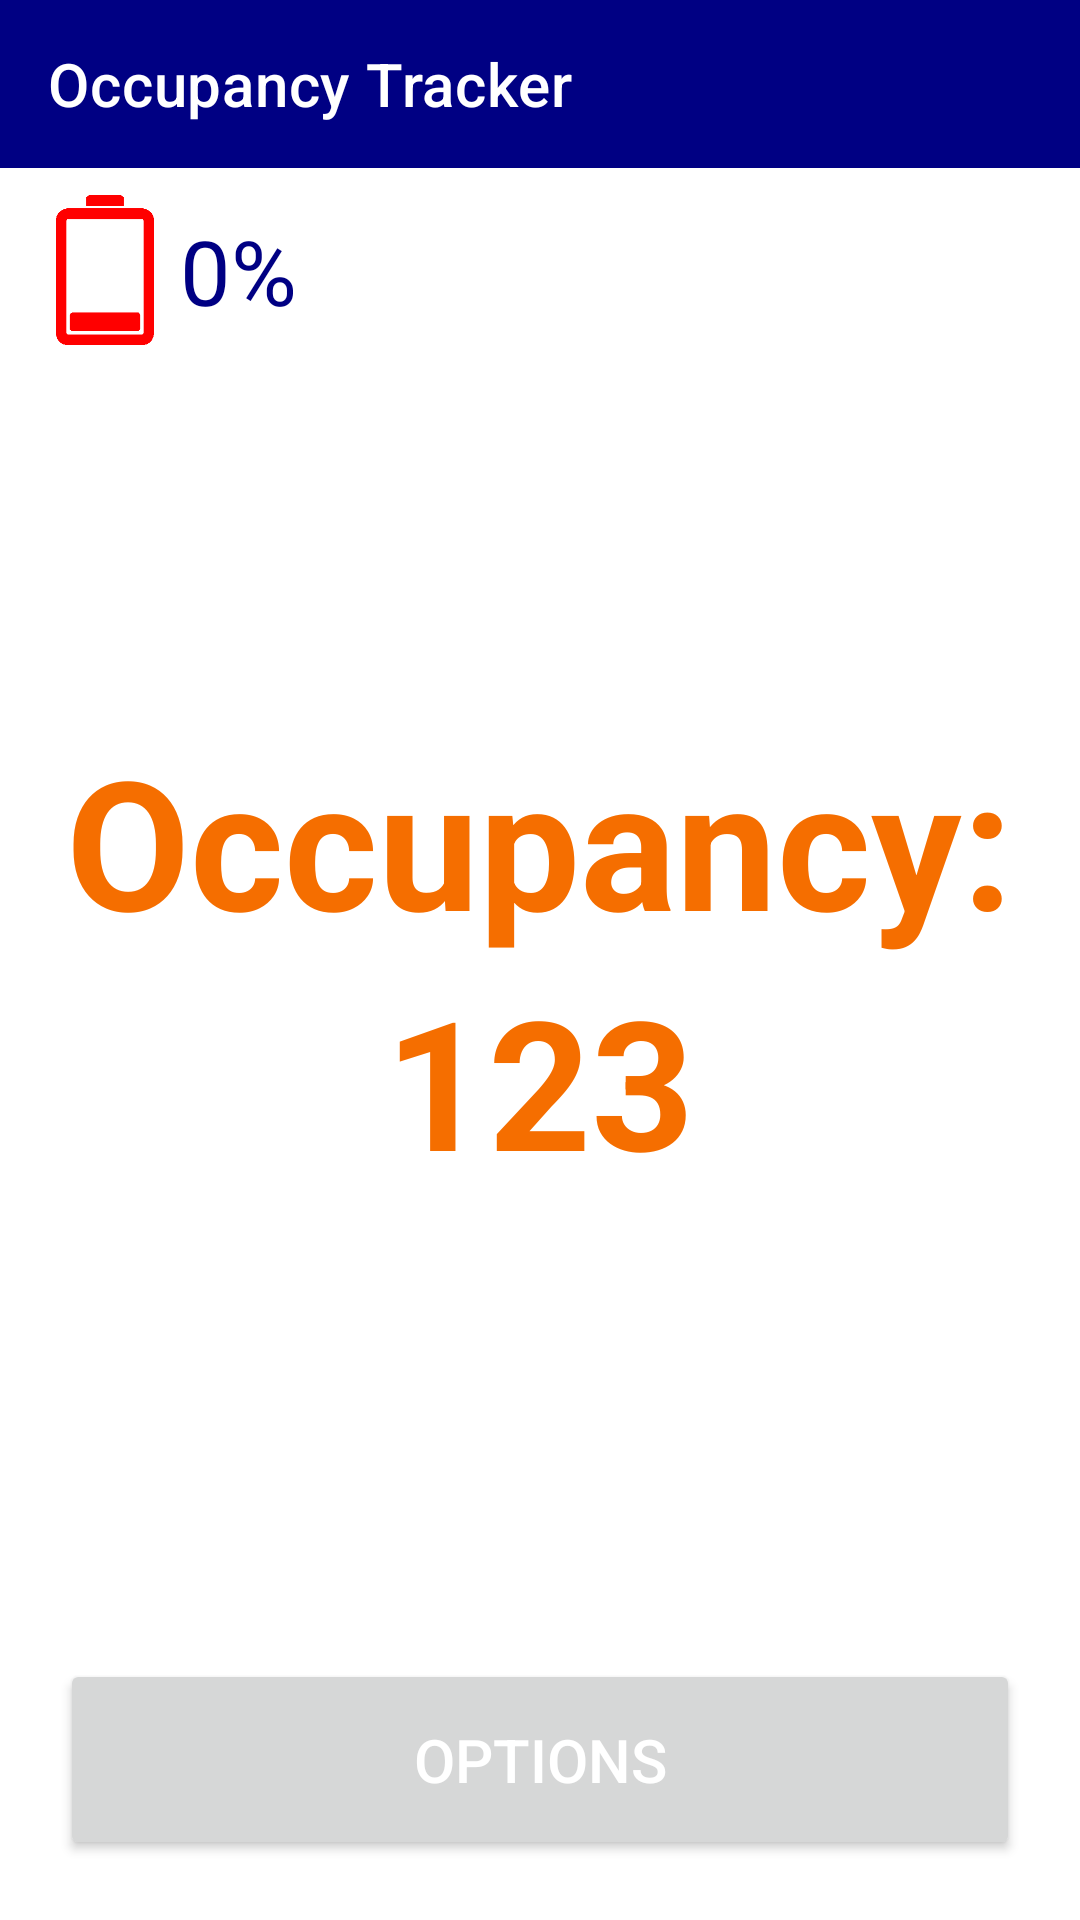

Screen size 1080w x 1920h. Icon name, then its box in pixels as [left=x1, top=y1, right=x2, bottom=y2]:
battery: [left=56, top=195, right=154, bottom=345]
